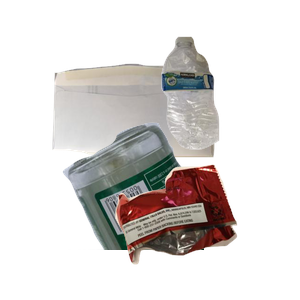glass: (60, 120, 300, 300)
paper: (50, 61, 257, 211)
plastic: (159, 34, 300, 176)
trash: (113, 162, 300, 300)
